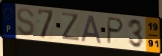3: (127, 18, 144, 50)
7: (37, 8, 55, 40)
A: (80, 15, 104, 46)
P: (106, 16, 125, 46)
S: (16, 7, 36, 38)
Z: (61, 12, 81, 43)
